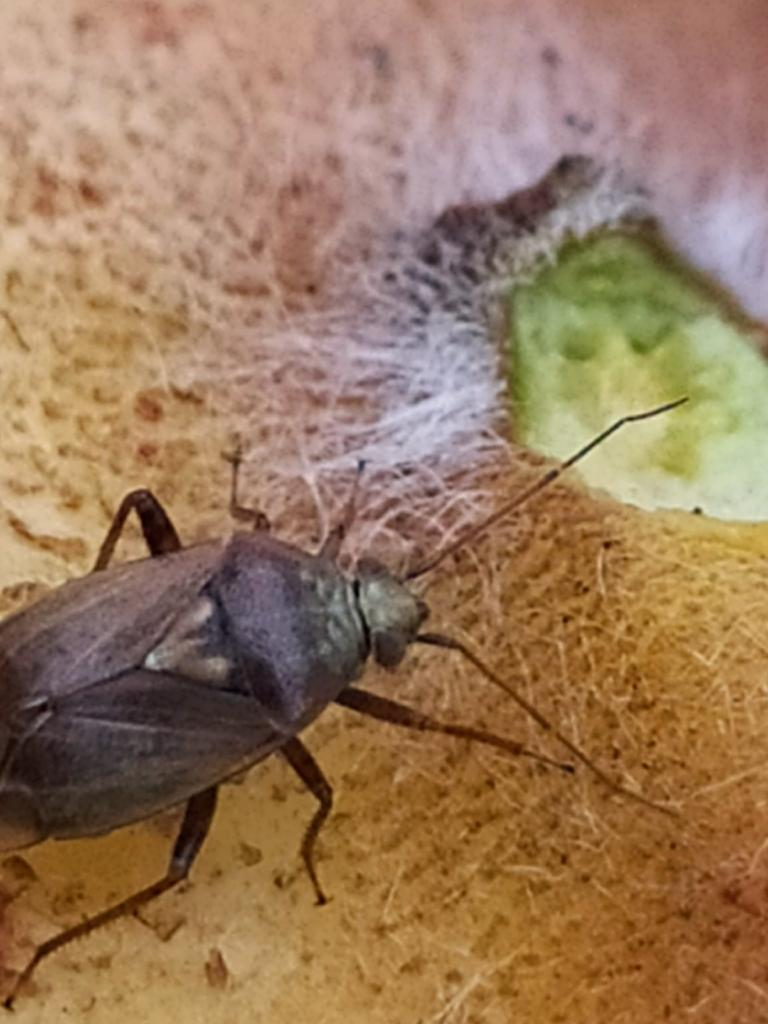plant_bugs: (0, 308, 766, 1017)
